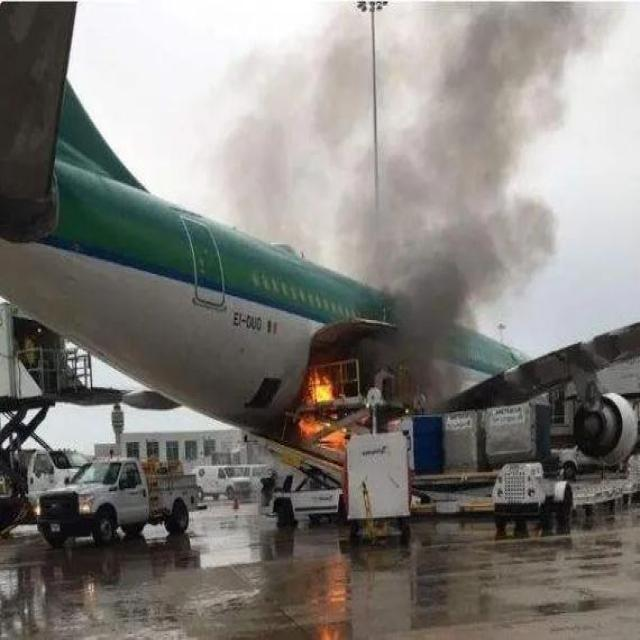Fire: (306, 371, 333, 404)
Smoke: (382, 0, 596, 305), (229, 38, 370, 228)
